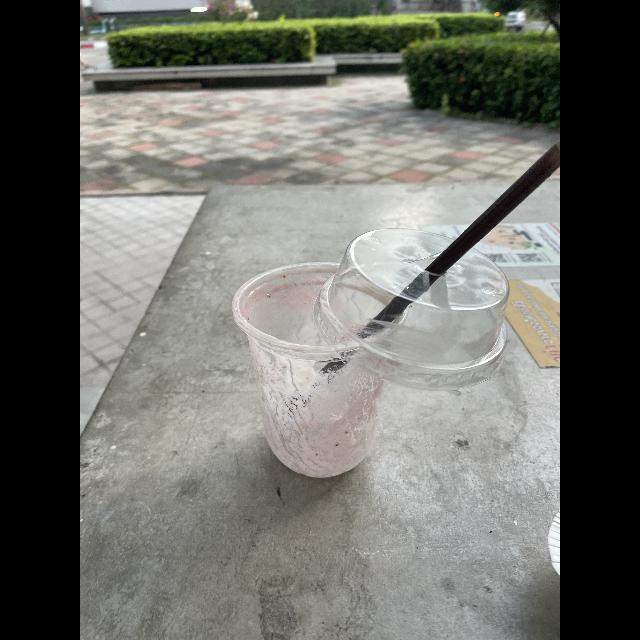plastic_cup: (234, 244, 413, 476)
plastic_cup_lid: (316, 224, 518, 388)
straw: (362, 144, 560, 330)
